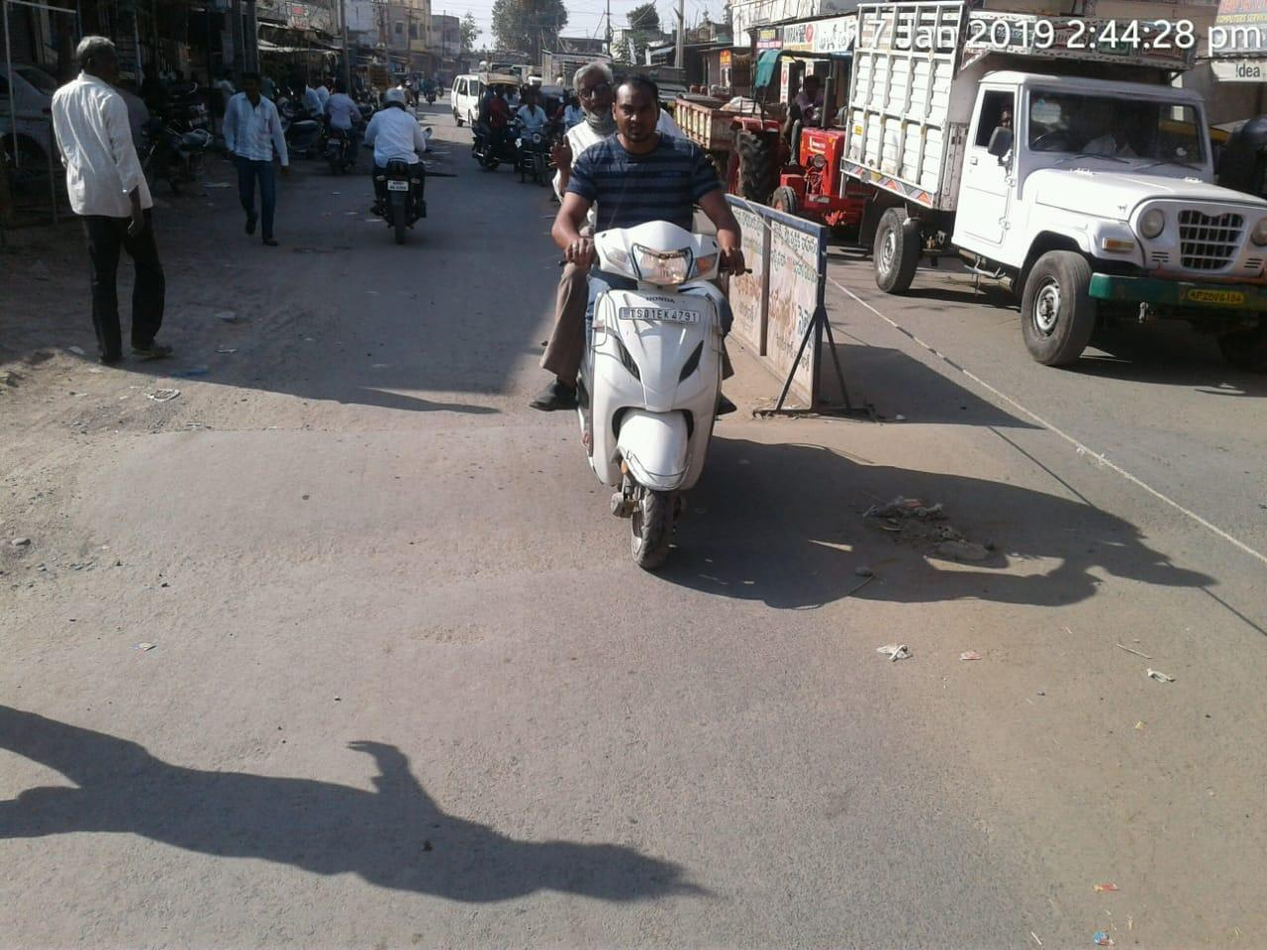plate: (611, 299, 712, 332), (383, 174, 415, 196)
